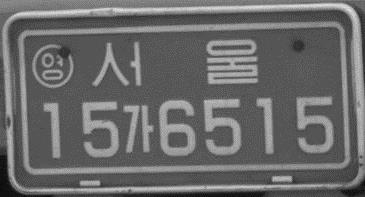1: (38, 100, 66, 159), (253, 95, 279, 155)
5: (294, 94, 337, 153), (201, 97, 243, 157), (79, 100, 121, 159)
6: (157, 97, 197, 158)
가: (121, 103, 157, 155)
서울_D: (89, 36, 260, 89)
영: (30, 42, 77, 88)
